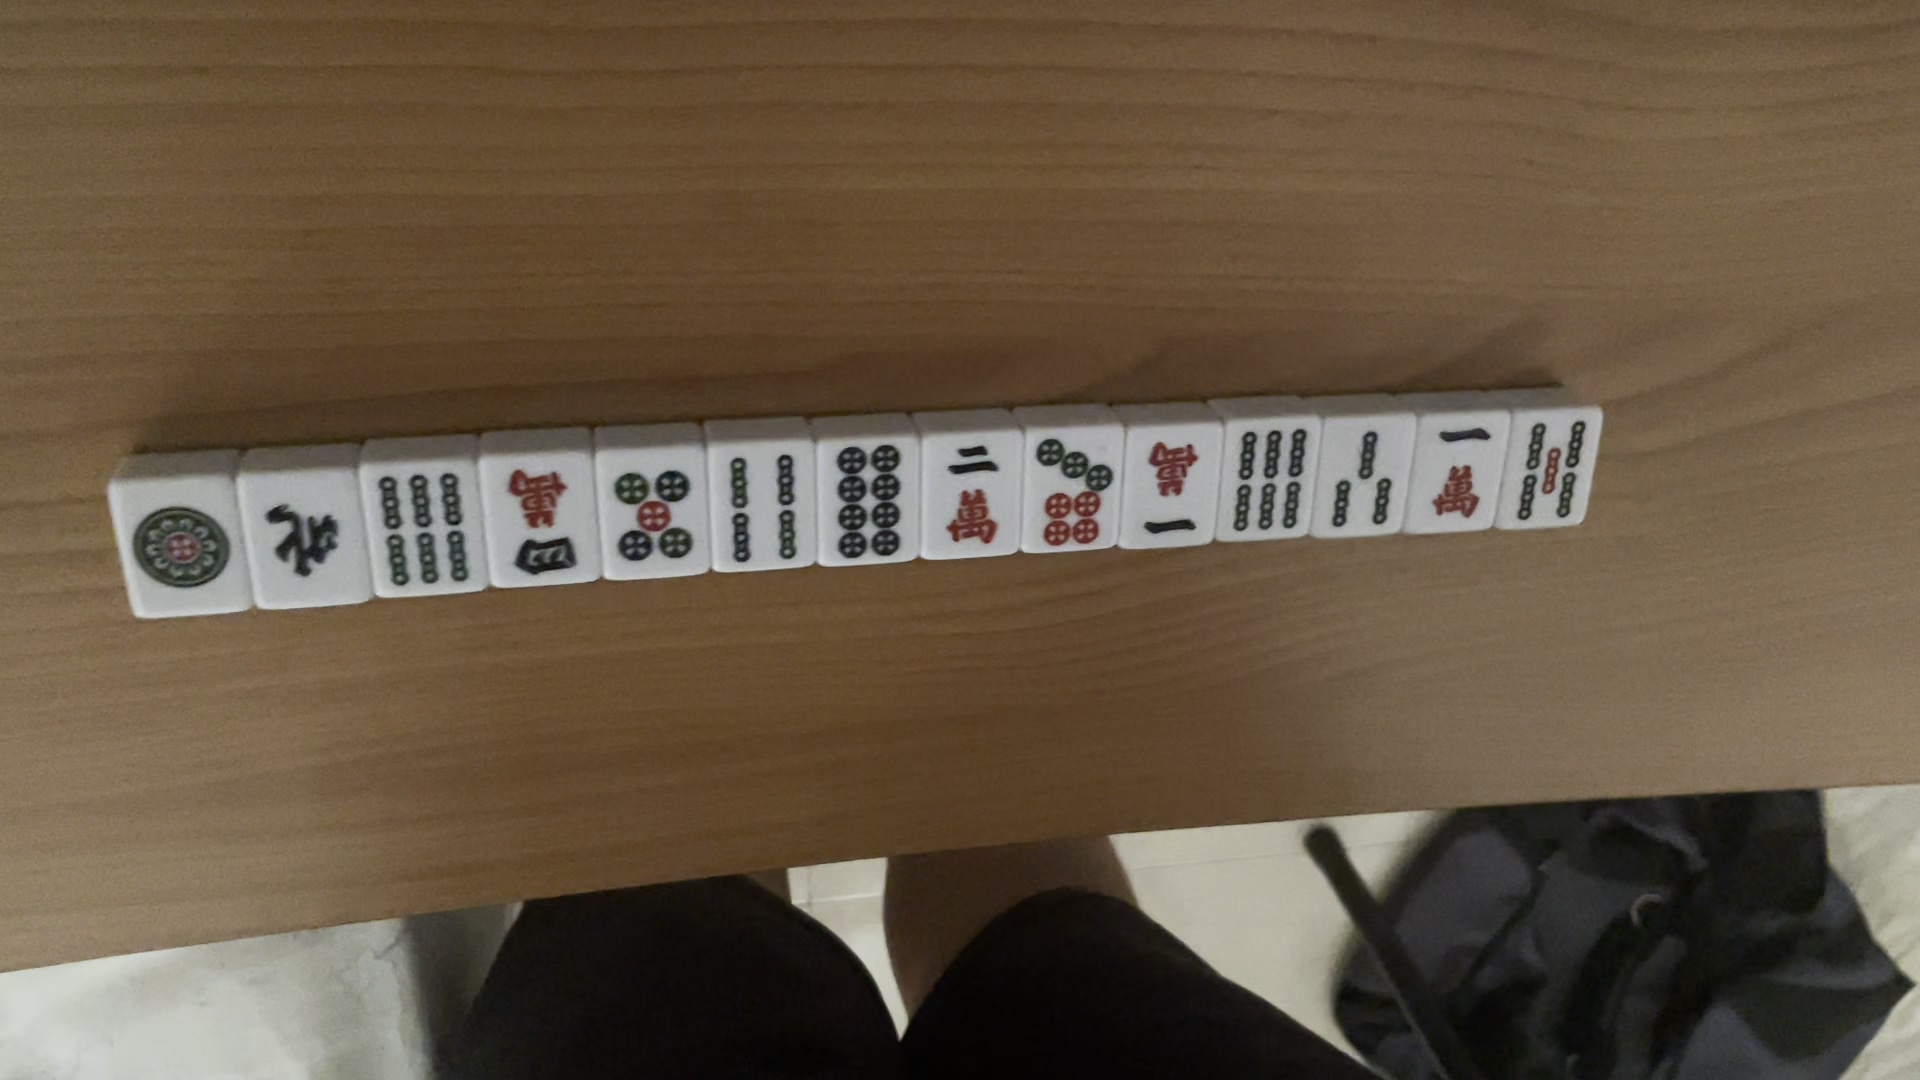b-3: (1327, 427, 1400, 533)
b-4: (723, 447, 804, 560)
b-5: (1507, 415, 1586, 527)
b-6: (371, 473, 476, 588), (1229, 427, 1312, 535)
c-1: (1135, 443, 1209, 543), (1422, 425, 1494, 524)
c-2: (942, 440, 1004, 549)
c-4: (502, 464, 582, 576)
d-1: (125, 496, 235, 596)
d-5: (607, 465, 696, 566)
d-7: (1029, 436, 1113, 550)
d-8: (828, 444, 906, 562)
honors-north: (255, 498, 347, 585)
